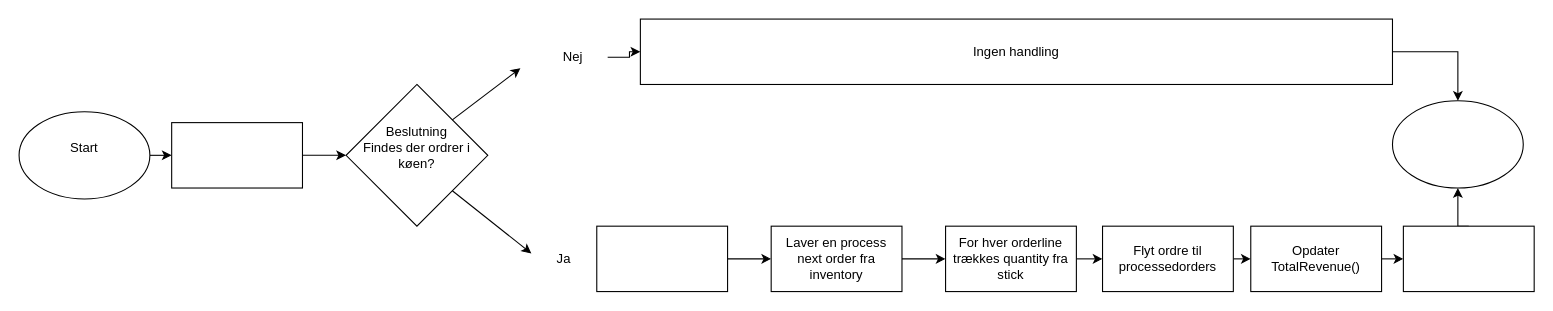
The diagram is 1553 pixels wide and 311 high, and some of its shapes have lost their labels. Here are the shapes that lost their labels. From the top down, the centre of each, then its label:
(x=236, y=155): Klik på Process next order
(x=1457, y=144): Slut
(x=662, y=258): Hent første ordre fra queded orders
(x=1468, y=258): Ui opdateres med total revenue pris
